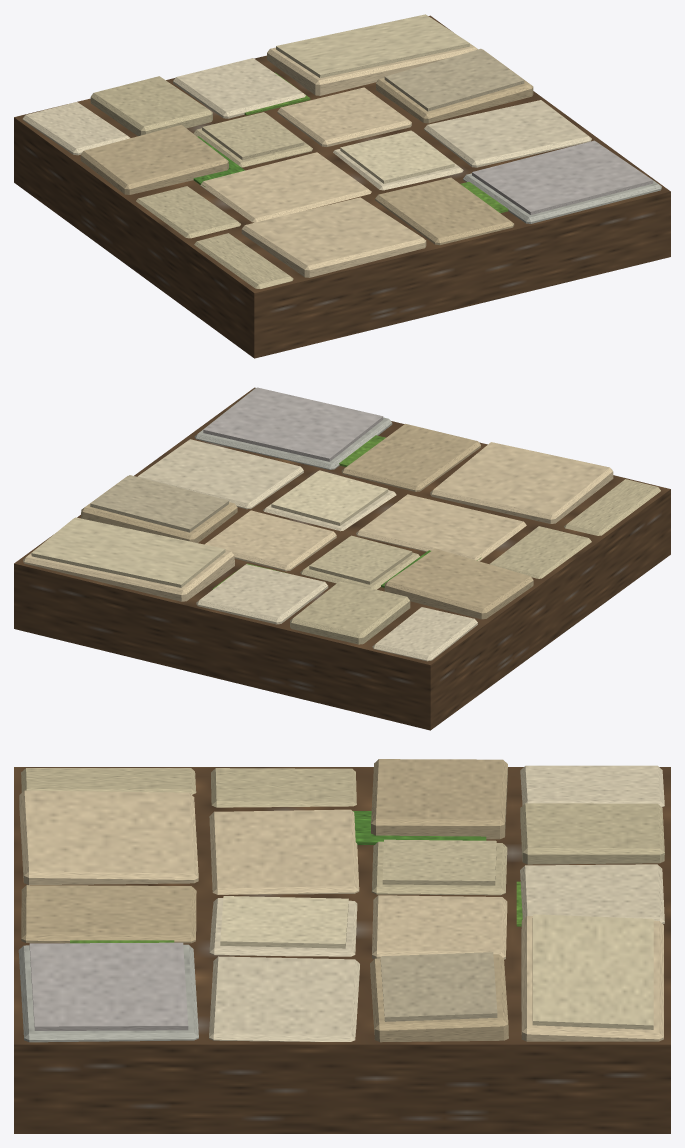
File: Sol_Paves_A.obj
The picture shows the model from 3 angles, top to bottom: view 1: azimuth 30°, elevation 25°; view 2: azimuth 150°, elevation 25°; view 3: azimuth 270°, elevation 25°; orthographic projection. The views are drawn at different scales.
Parts seen in each view (by area): view 1: Sol_Paves_A; view 2: Sol_Paves_A; view 3: Sol_Paves_A.
Boxes of the visible parts, x1,y1,x2,y2 form: Sol_Paves_A: (14, 14, 670, 358); Sol_Paves_A: (14, 387, 670, 730); Sol_Paves_A: (14, 759, 670, 1133).
Bounding box in the file's own units: 8 × 1.51 × 8.
Materials: 1 (1 with a texture image).
